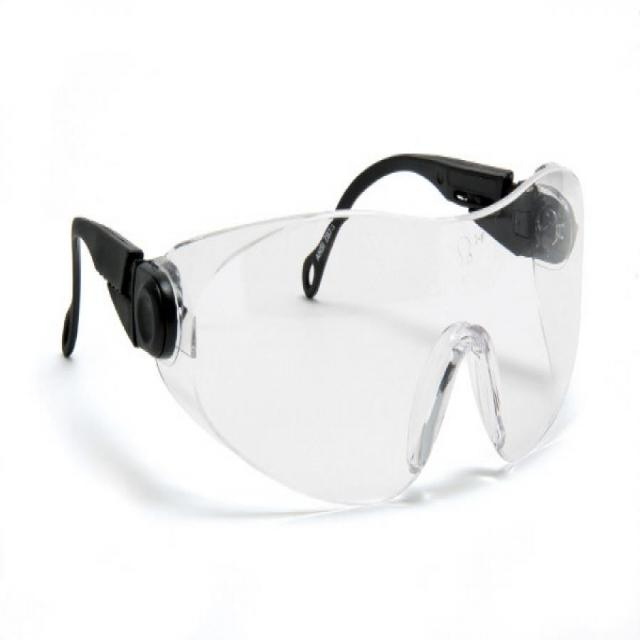Protective Glasses: (40, 114, 615, 524)
